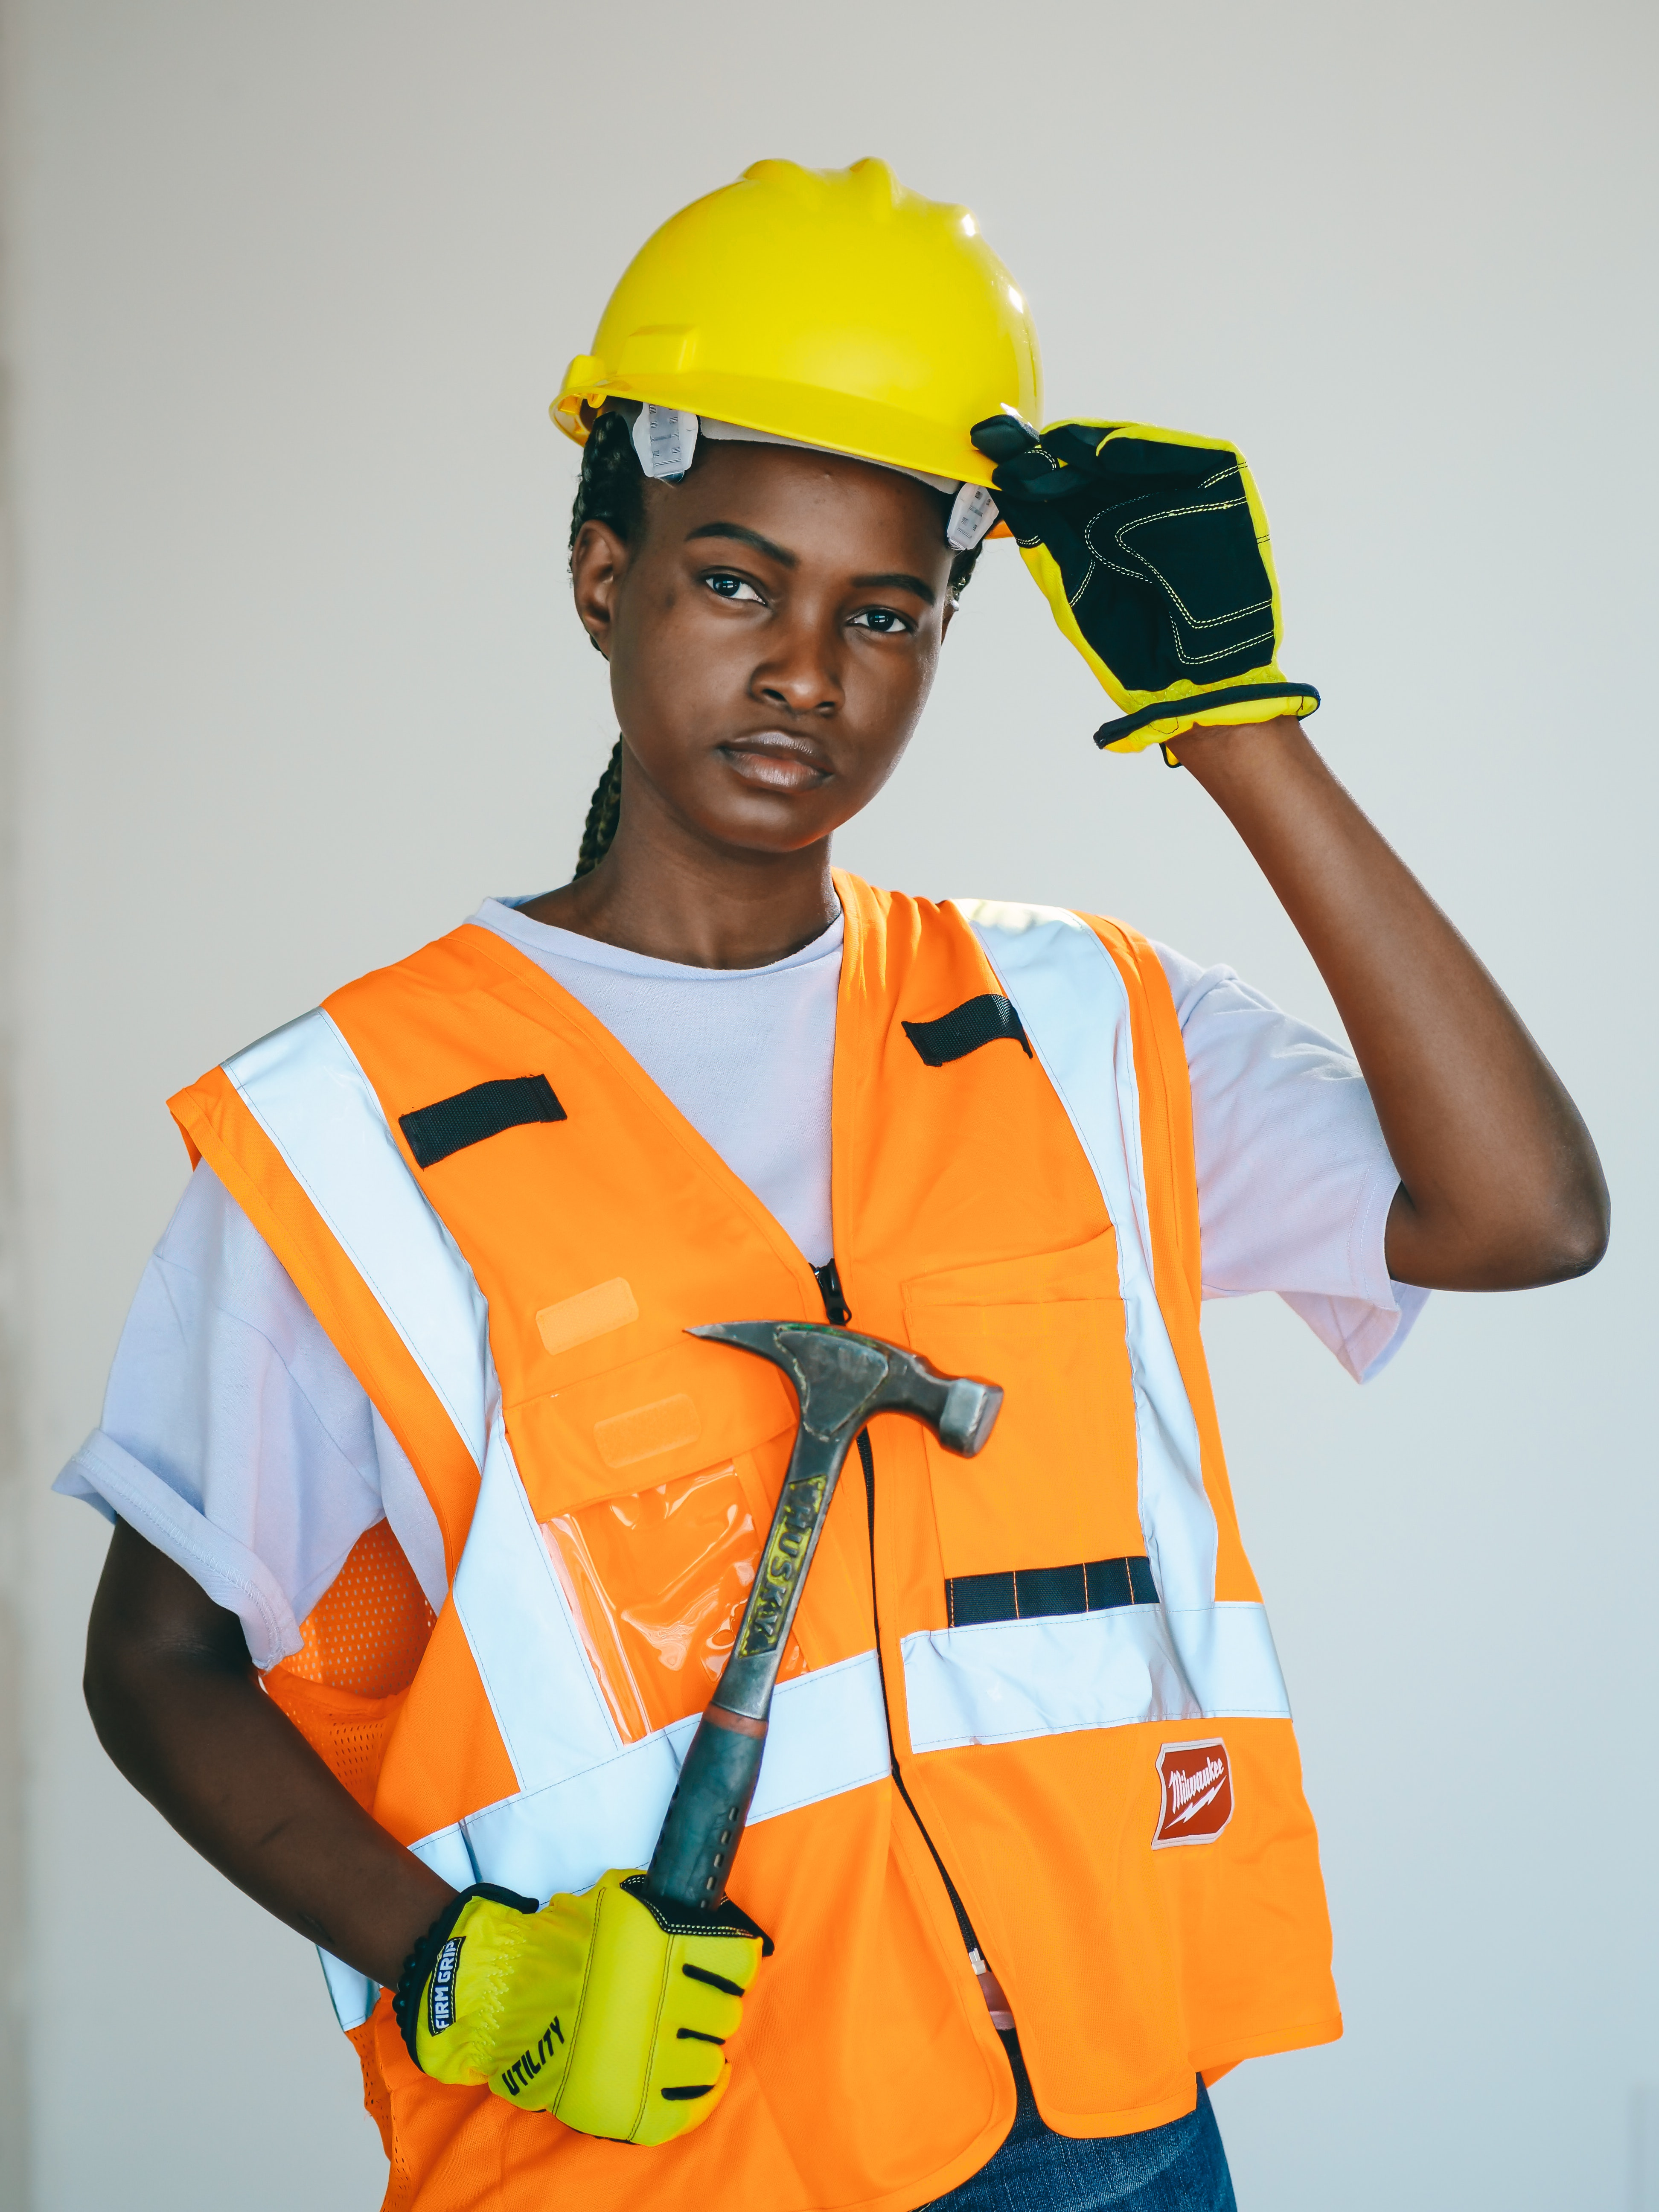Helmet: (505, 134, 1058, 876)
Reflective vest: (162, 866, 1354, 2212)
